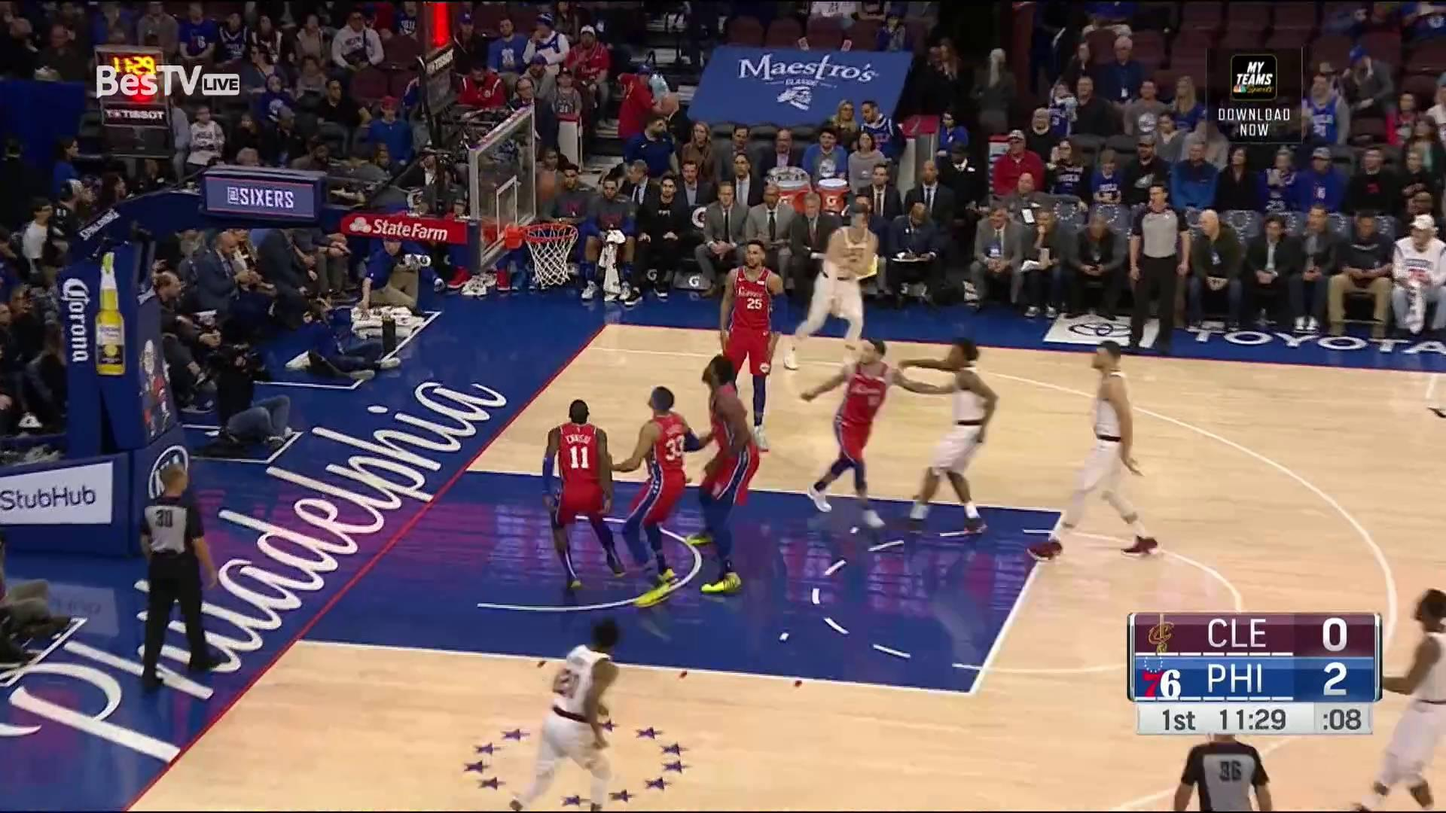basketball: (533, 172, 565, 206)
